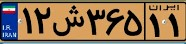character: (52, 4, 84, 37), (84, 4, 106, 38), (104, 3, 124, 39), (124, 4, 144, 39), (32, 4, 53, 37), (19, 4, 34, 37), (166, 11, 181, 39), (148, 12, 163, 39)
